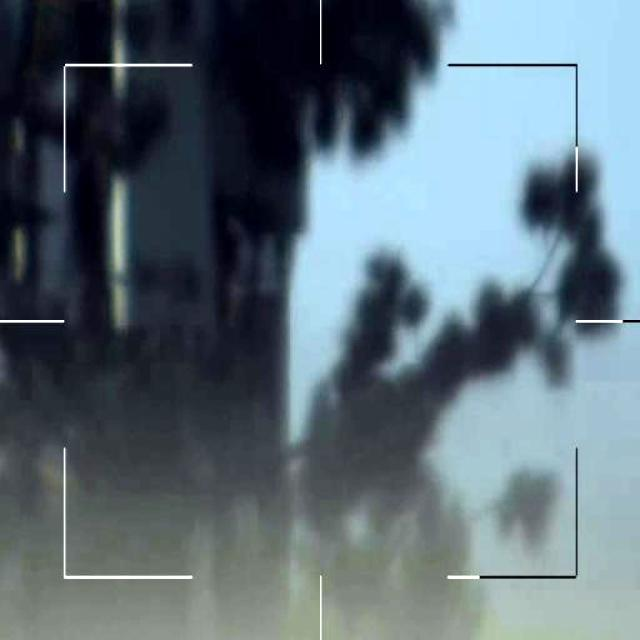bird: (351, 291, 405, 352)
